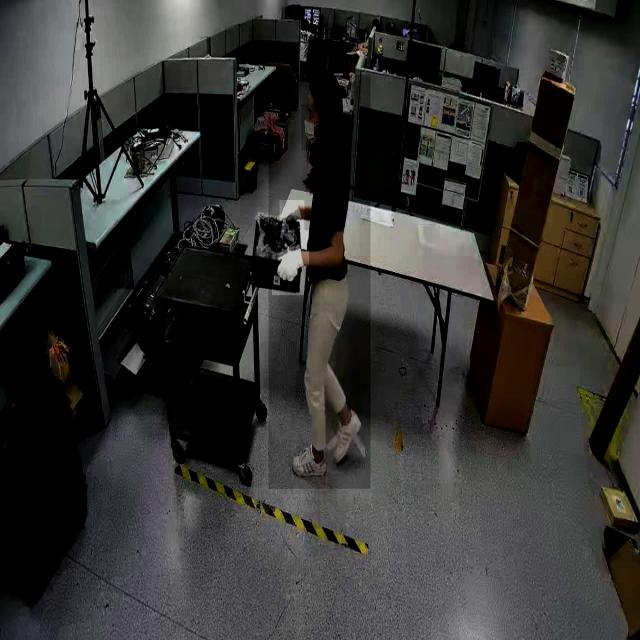face_mask: (301, 104, 323, 150)
hand_glove: (272, 230, 309, 295), (280, 200, 304, 232)
head_nohelmet: (310, 70, 342, 98)
person: (268, 74, 370, 490)
shoes: (330, 400, 363, 468), (290, 443, 328, 483)
